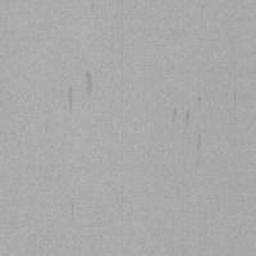Inclusion: (85, 71, 93, 95), (68, 86, 73, 112)
